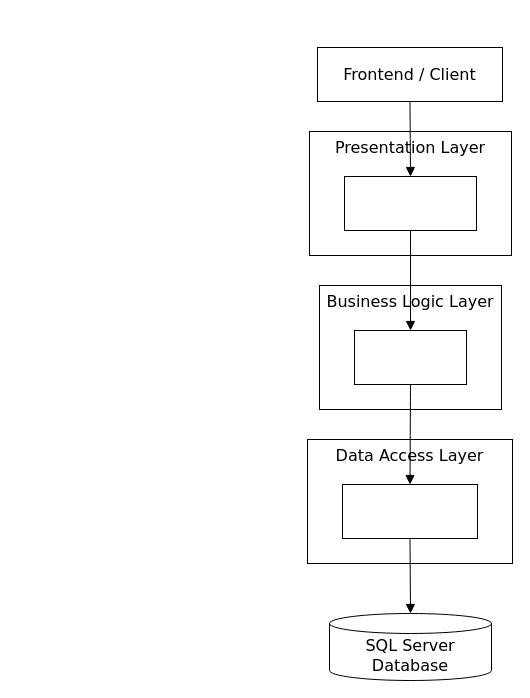
This 530x698 diagram has some shape labels left out. The centre of each missing label's shape, as x and y in pixels:
"Controller" belongs at [410,203].
"Repository" belongs at [410,511].
"Service" belongs at [410,357].
